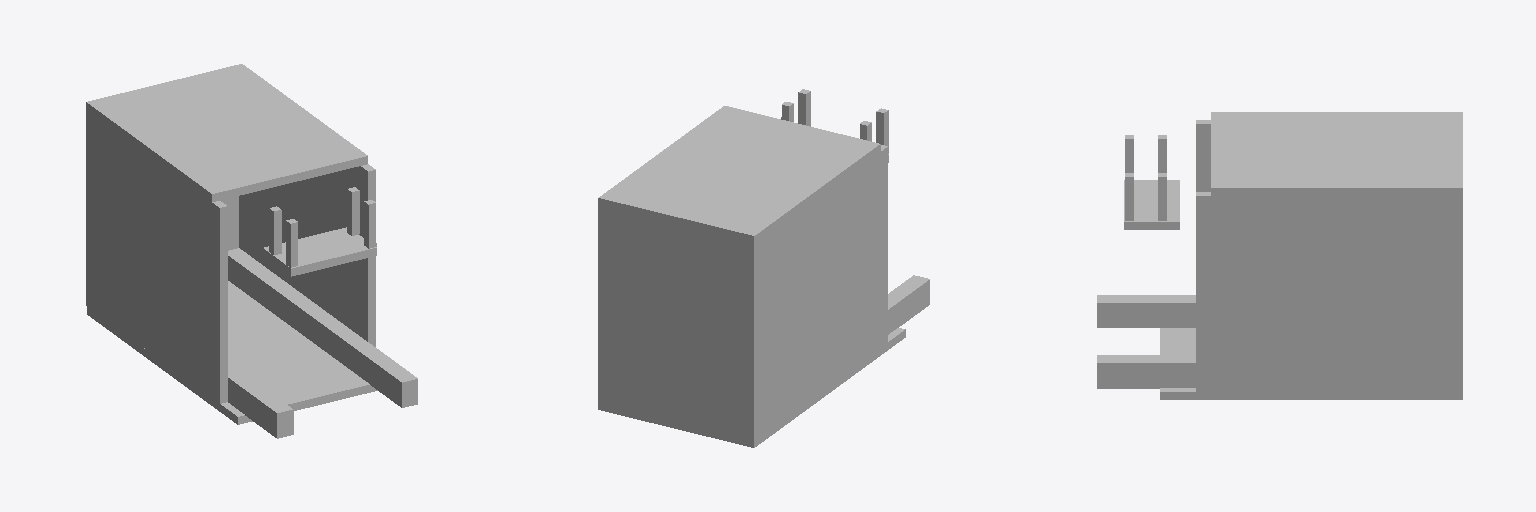
The model's file is room.obj.
3 views of the same model, side by side, from view 1: azimuth 30°, elevation 25°; view 2: azimuth 150°, elevation 25°; view 3: azimuth 270°, elevation 25° (orthographic).
Visible parts, largest first — view 1: 左, 床, 右, 天井, 右段差, 机, 左段差, 立方体.003, 手前, 立方体.002, 立方体.001, 立方体; view 2: 左, 手前, 床, 天井, 左段差, 右; view 3: 右, 床, 天井, 右段差, 左段差, 机, 手前, 左.
Boxes of the visible parts, x1,y1,x2,y2 form: 左: [86, 110, 227, 403]; 床: [86, 64, 367, 201]; 右: [239, 164, 375, 346]; 天井: [87, 281, 377, 424]; 右段差: [228, 248, 417, 407]; 机: [263, 227, 376, 276]; 左段差: [228, 362, 293, 438]; 立方体.003: [347, 187, 359, 235]; 手前: [220, 196, 238, 250]; 立方体.002: [269, 206, 281, 254]; 立方体.001: [364, 200, 376, 248]; 立方体: [286, 219, 297, 267]; 左: [746, 145, 887, 439]; 手前: [606, 208, 746, 437]; 床: [598, 106, 880, 243]; 天井: [598, 328, 905, 447]; 左段差: [888, 275, 929, 334]; 右: [598, 206, 605, 403]; 右: [1196, 192, 1453, 391]; 床: [1211, 112, 1462, 195]; 天井: [1160, 328, 1462, 399]; 右段差: [1097, 355, 1195, 388]; 左段差: [1097, 295, 1195, 327]; 机: [1124, 180, 1179, 229]; 手前: [1454, 196, 1462, 391]; 左: [1196, 120, 1210, 191].
Size of the model in its own units: 4.01 by 5.21 by 8.14.